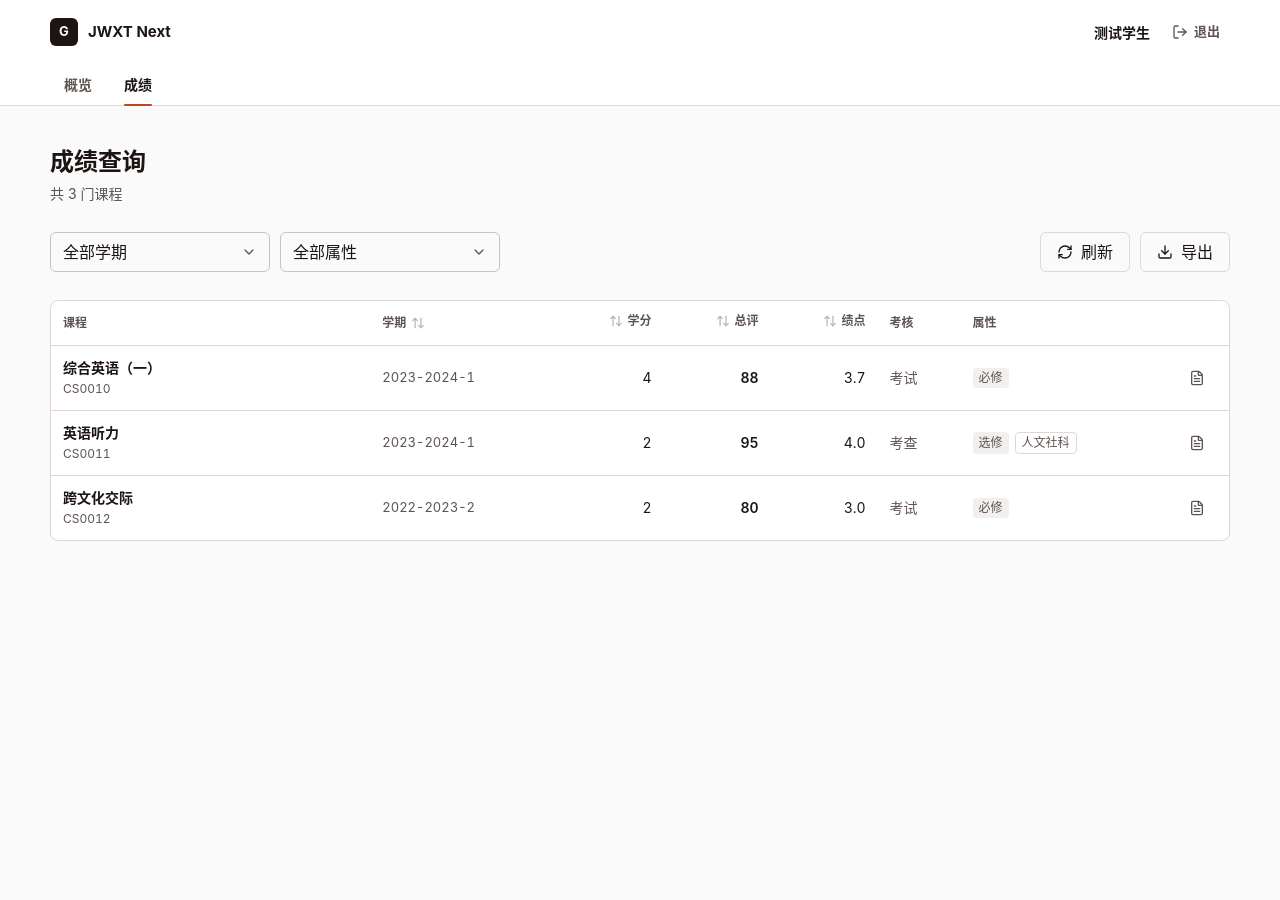
Test: grades page › 打开成绩组成对话框：已知字段代码译为中文，未知键原样展示
Expected: the heading "成绩查询" is shown, [50, 147, 146, 176]
Click the button named "查看 综合英语（一） 成绩组成".
click(1197, 378)  # box [1177, 358, 1217, 398]
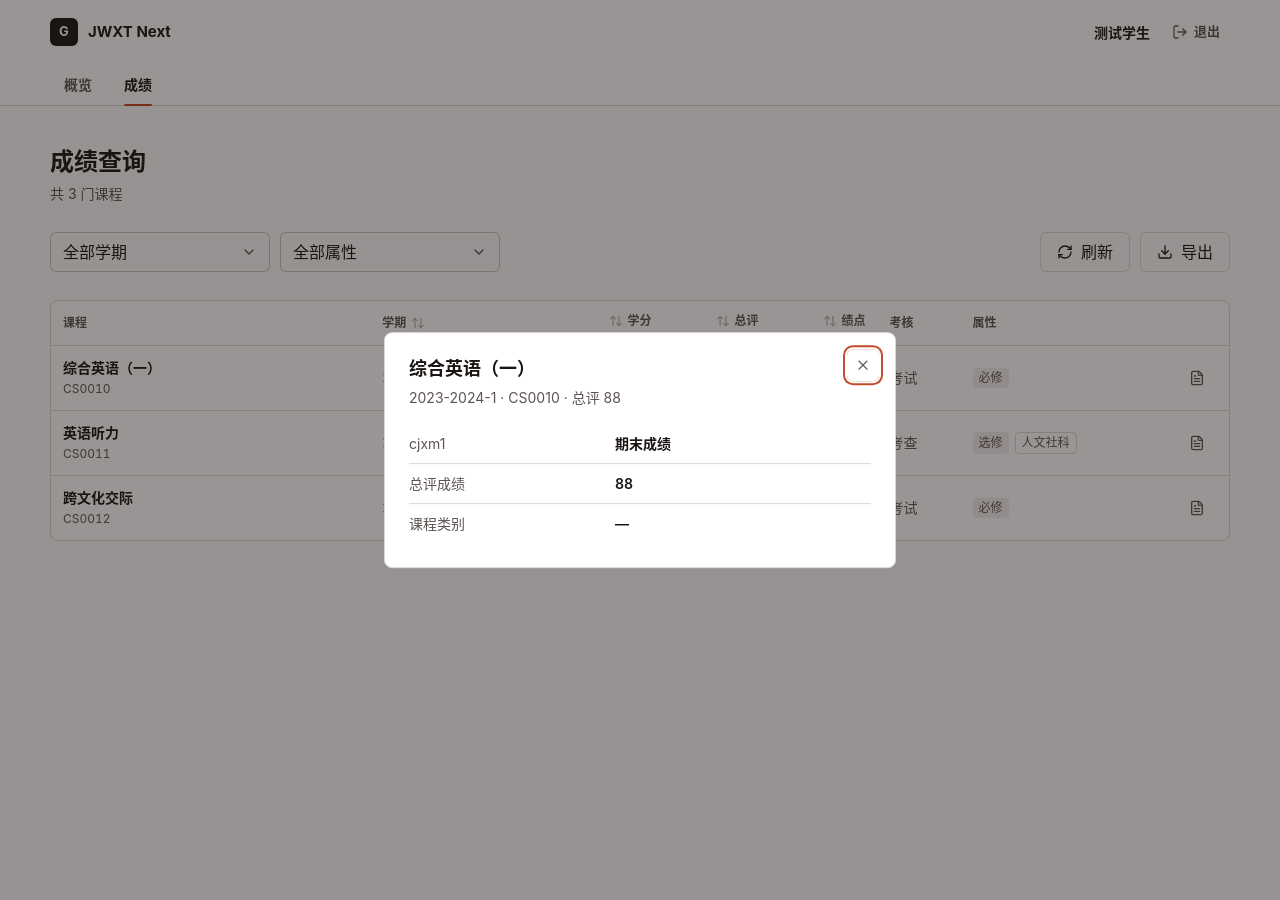
Expected: the heading "综合英语（一）" is shown, [409, 358, 535, 379]
Expected: the text "cjxm1" is shown, [409, 435, 445, 452]
Expected: the text "期末成绩" is shown, [615, 435, 671, 452]
